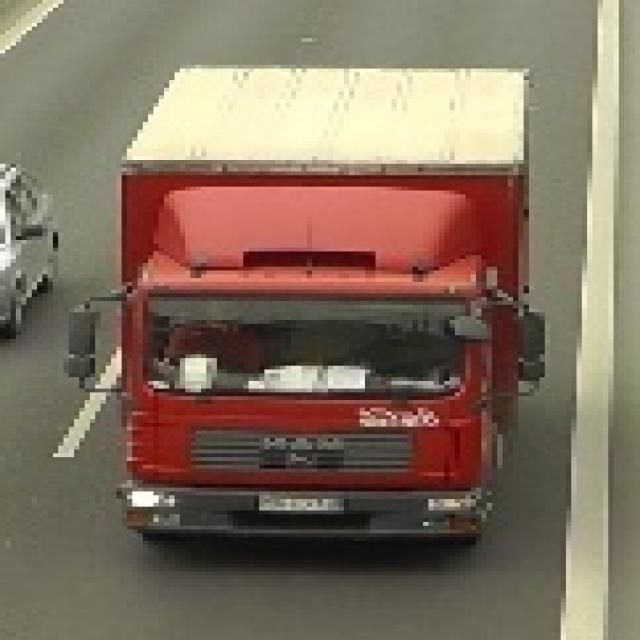truck: (63, 61, 545, 556)
